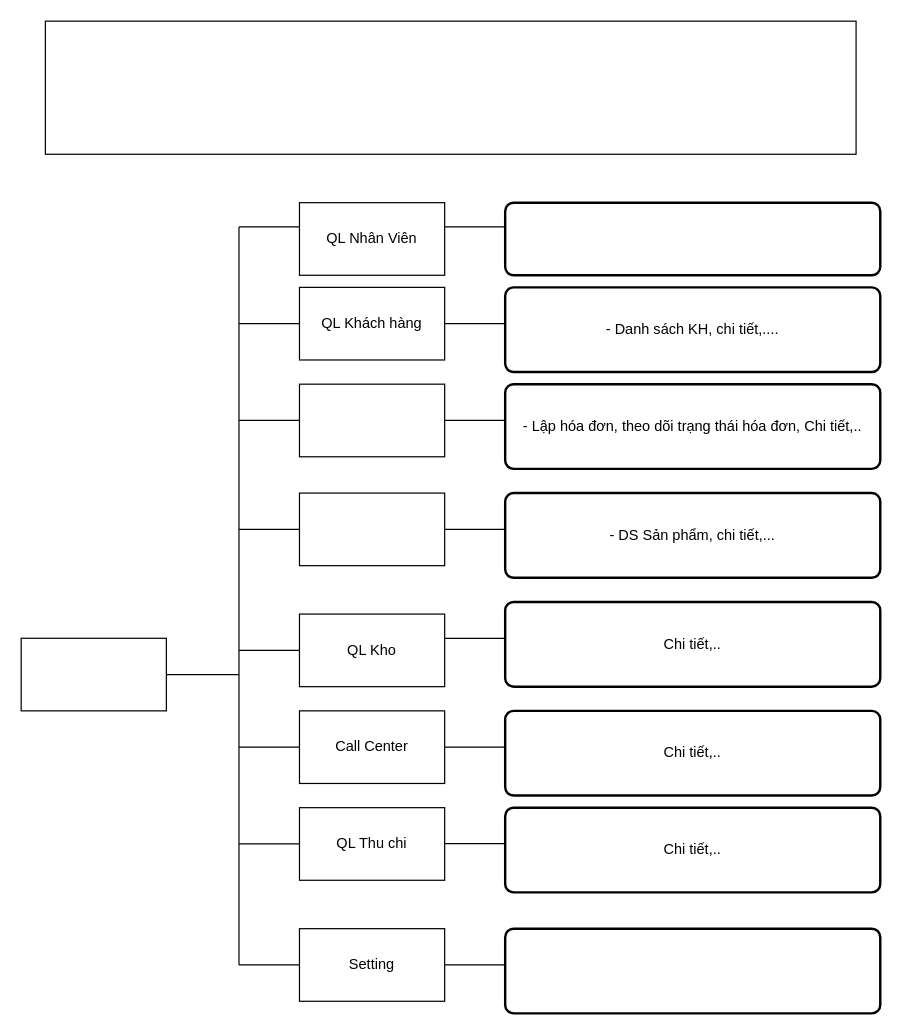
Image size: 903x1036. Some labels were removed from this diagram. Here are the shapes that lost their labels. From the top down, the centre of each, then its label:
pixel 450 87: Flowchart TGXCĐ
pixel 692 238: - Danh sách NV, Chi tiết,..
pixel 371 420: QL Hóa đơn
pixel 371 529: QL Sản phẩm
pixel 93 674: Dashboard
pixel 692 970: Phân quyền, Chi tiết,..
